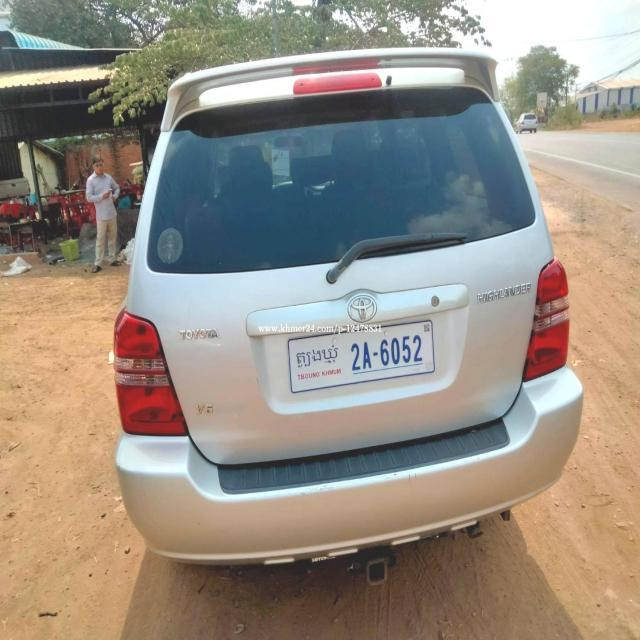Tboung_Khmum: (295, 340, 340, 371)
